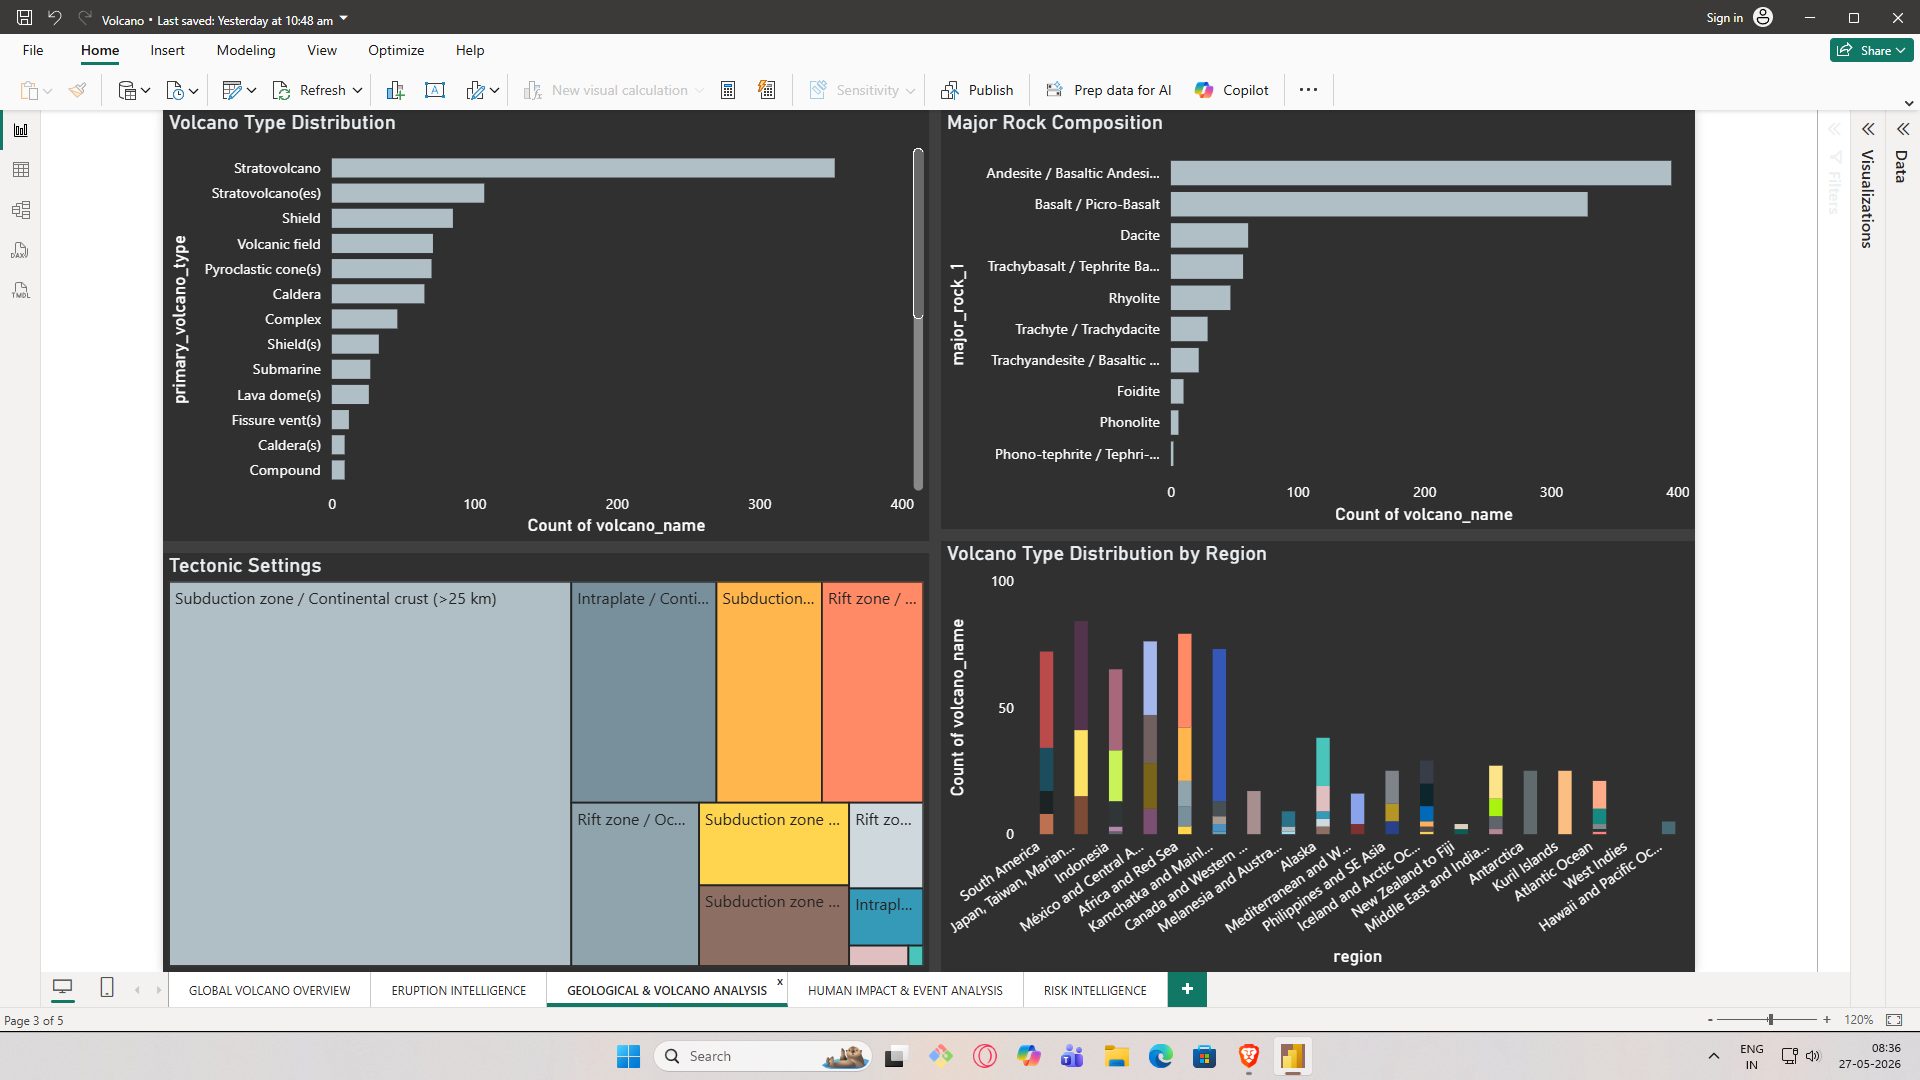

This screenshot's page, from the dashboard's own definition file:
{"tool":"powerbi","page":{"name":"GEOLOGICAL & VOLCANO ANALYSIS","canvas":[1280,720],"ordinal":2},"visuals":[{"type":"clusteredBarChart","title":"Volcano Type Distribution","fields":{"Category":["volcano.primary_volcano_type"],"Y":["CountNonNull(volcano.volcano_name)"]},"box":[0,0,640,359.9],"z":0},{"type":"treemap","title":"Tectonic Settings","fields":{"Group":["volcano.tectonic_settings"],"Values":["CountNonNull(volcano.volcano_name)"]},"box":[0,370,640,350],"z":1000},{"type":"ribbonChart","title":"Volcano Type Distribution by Region","fields":{"Category":["volcano.region"],"Series":["volcano.subregion"],"Y":["CountNonNull(volcano.volcano_name)"]},"box":[649.7,359.9,630.3,359.9],"z":2000},{"type":"clusteredBarChart","title":"Major Rock Composition","fields":{"Category":["volcano.major_rock_1"],"Y":["CountNonNull(volcano.volcano_name)"]},"box":[649.7,0,630.3,350.2],"z":3000}]}

Visuals, with their boxes on the page's 1280x720 design canvas (x1, y1, x2, y2). These are canvas units, not pixel positions in the 1920x1080 screenshot, which may show the page scaled, cropped or inside an application window:
"Volcano Type Distribution" clusteredBarChart: [0,0,640,360]
"Tectonic Settings" treemap: [0,370,640,720]
"Volcano Type Distribution by Region" ribbonChart: [650,360,1280,720]
"Major Rock Composition" clusteredBarChart: [650,0,1280,350]
